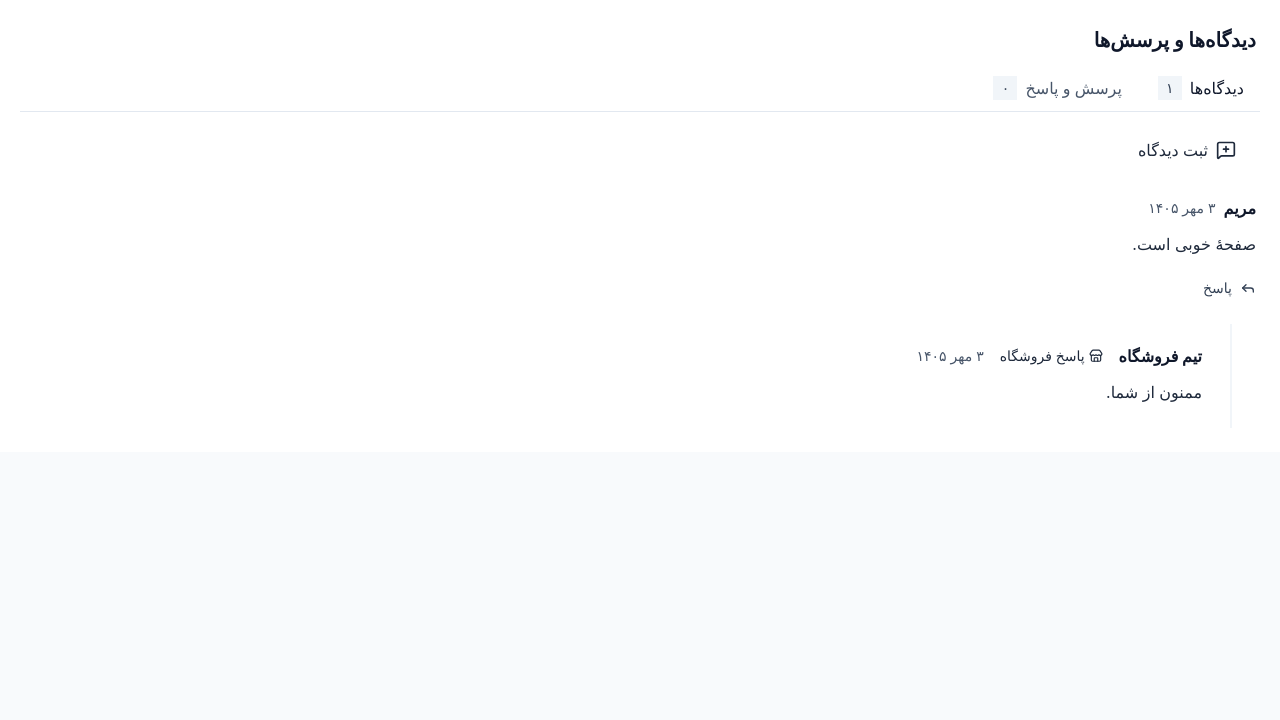
Scenario: PageComments › 403 page_comments_disabled: every form goes, the API’s sentence takes the focus
Later steps or results of the test are not shown.
Click the button "ثبت دیدگاه".
click(1187, 150)  # box 1118,128 -> 1256,172
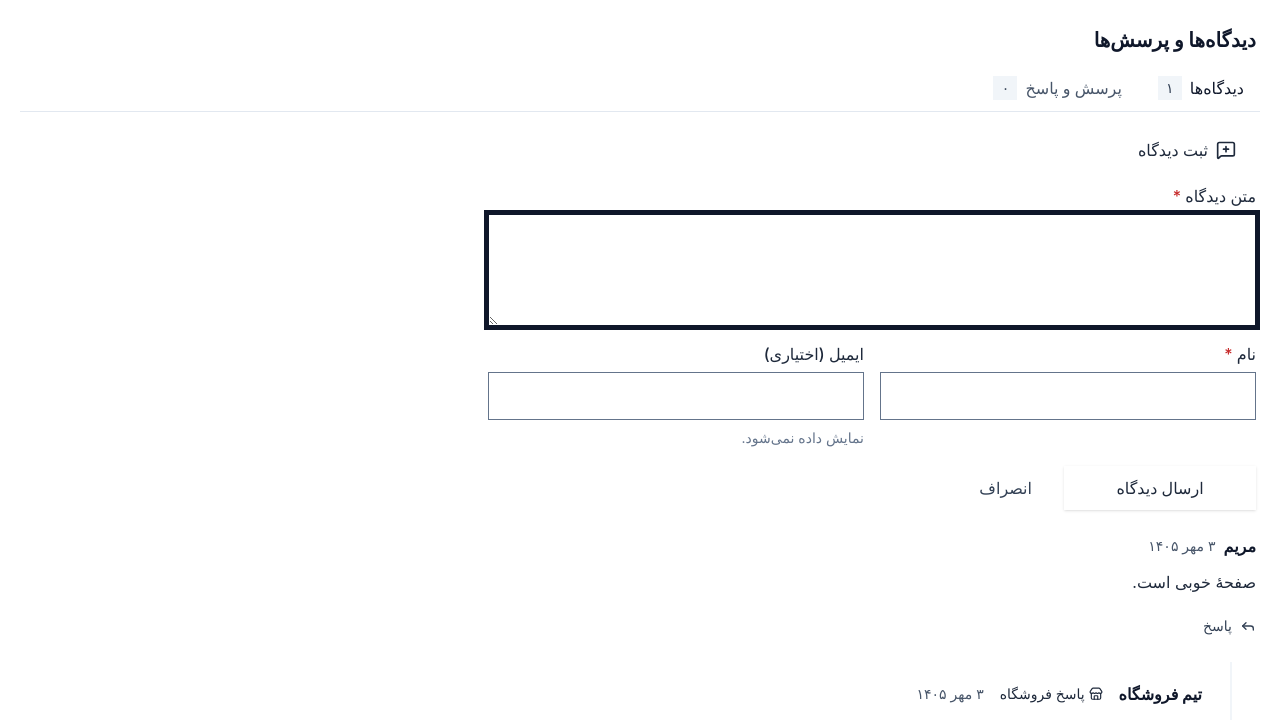
Type "عالی" into the text box labelled "متن دیدگاه *".
click(872, 270); type("عالی")  # box 488,214 -> 1256,326
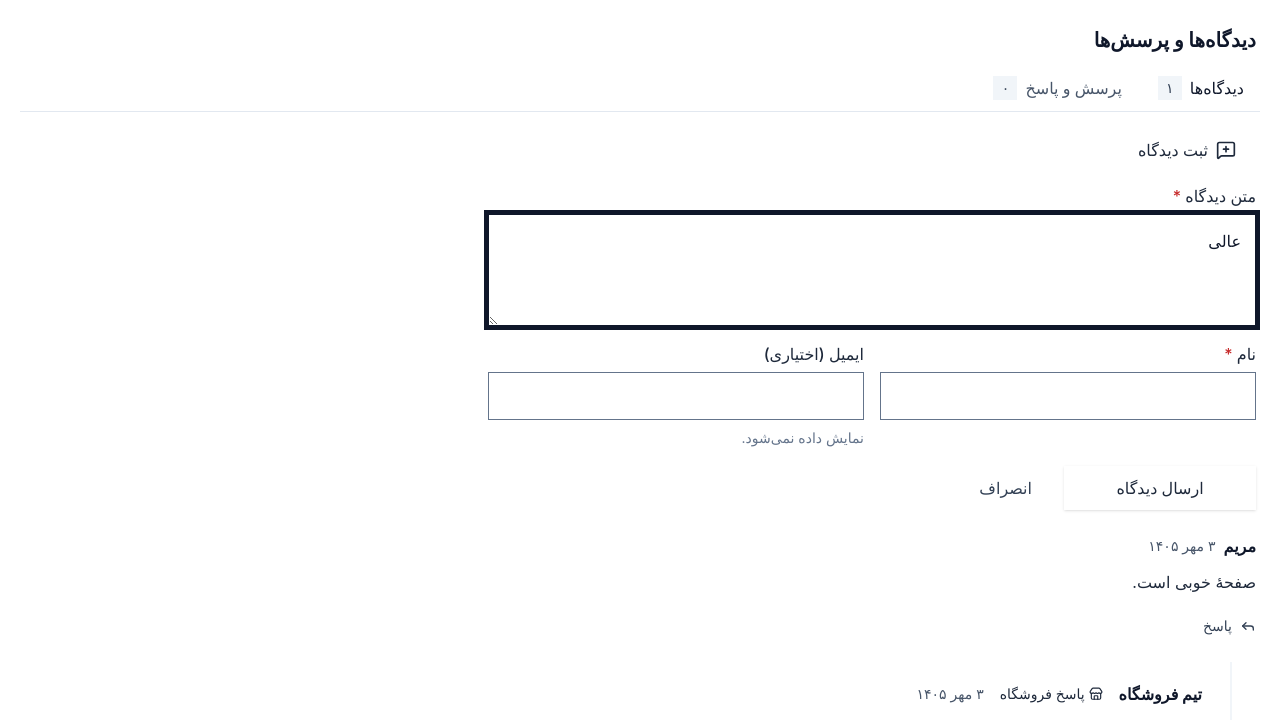
Type "سارا" into the field labelled "نام *".
click(1068, 396); type("سارا")  # box 881,373 -> 1255,419
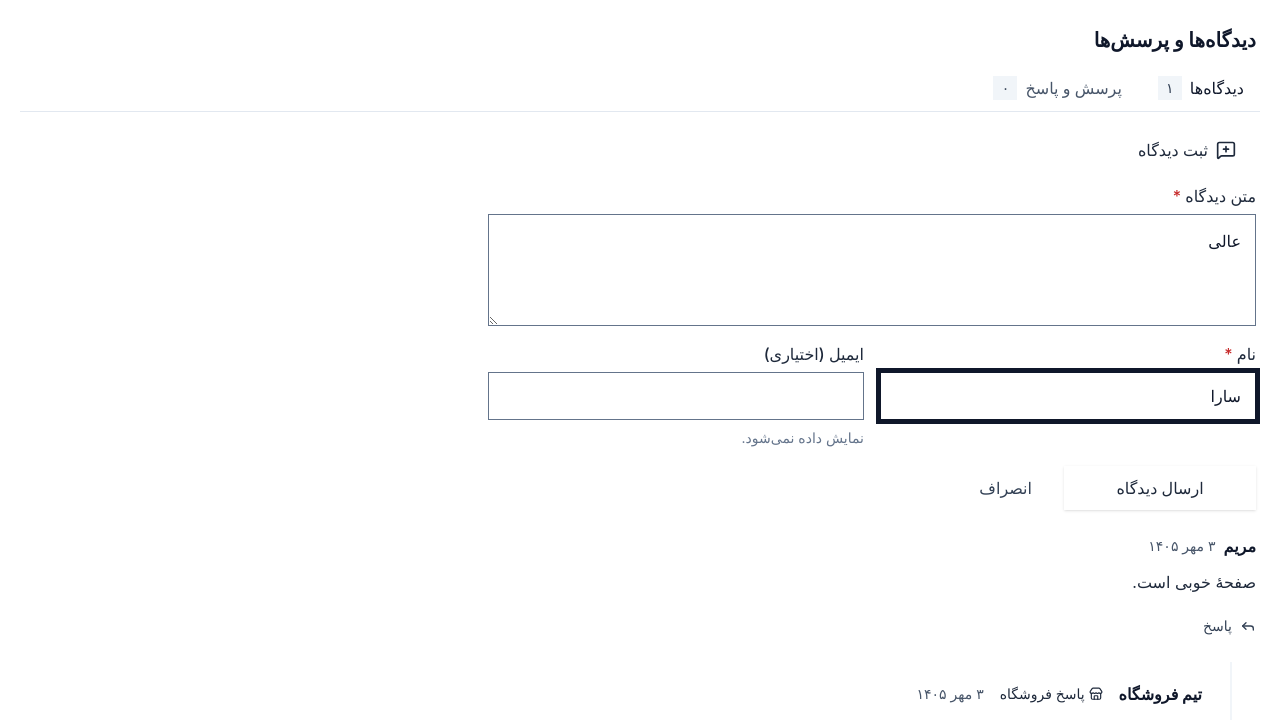
Click the button "ارسال دیدگاه".
click(1160, 488)  # box 1064,466 -> 1256,510
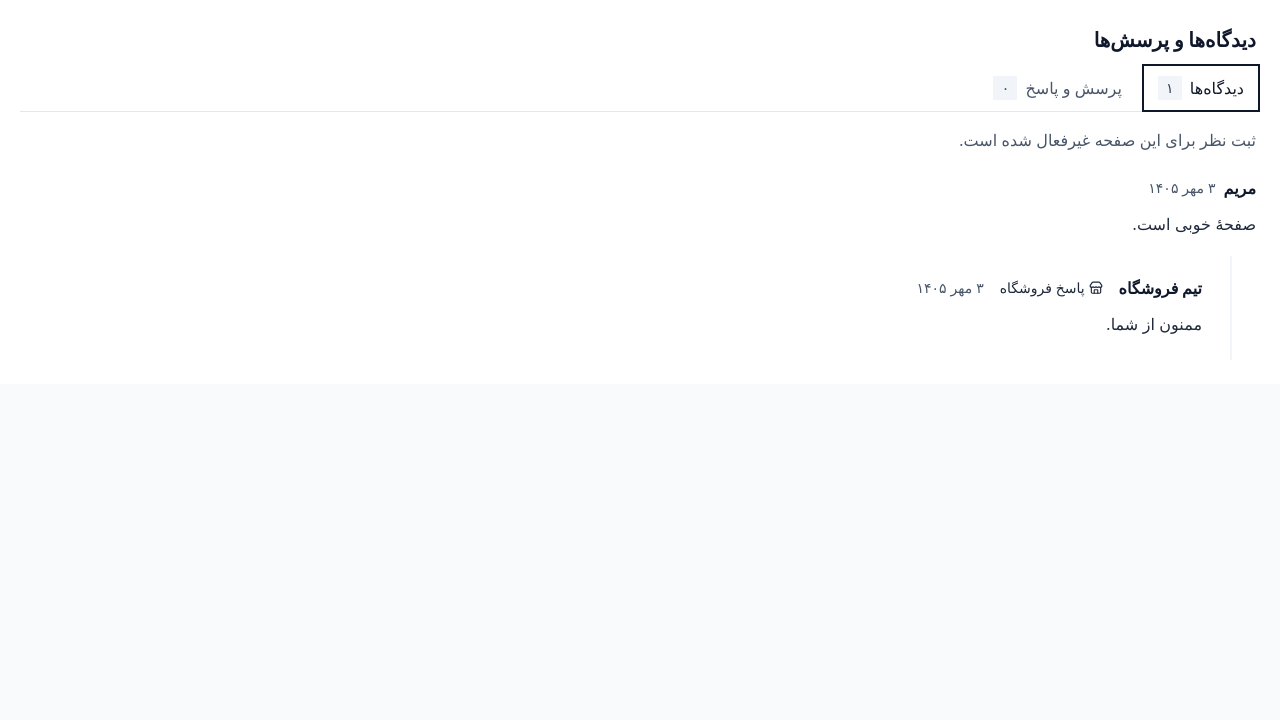
Check: the text "صفحهٔ خوبی است." is shown, box 1132,214 -> 1256,234
Check: the form is gone
Check: the button "ثبت دیدگاه" is gone
Press Arrowleft
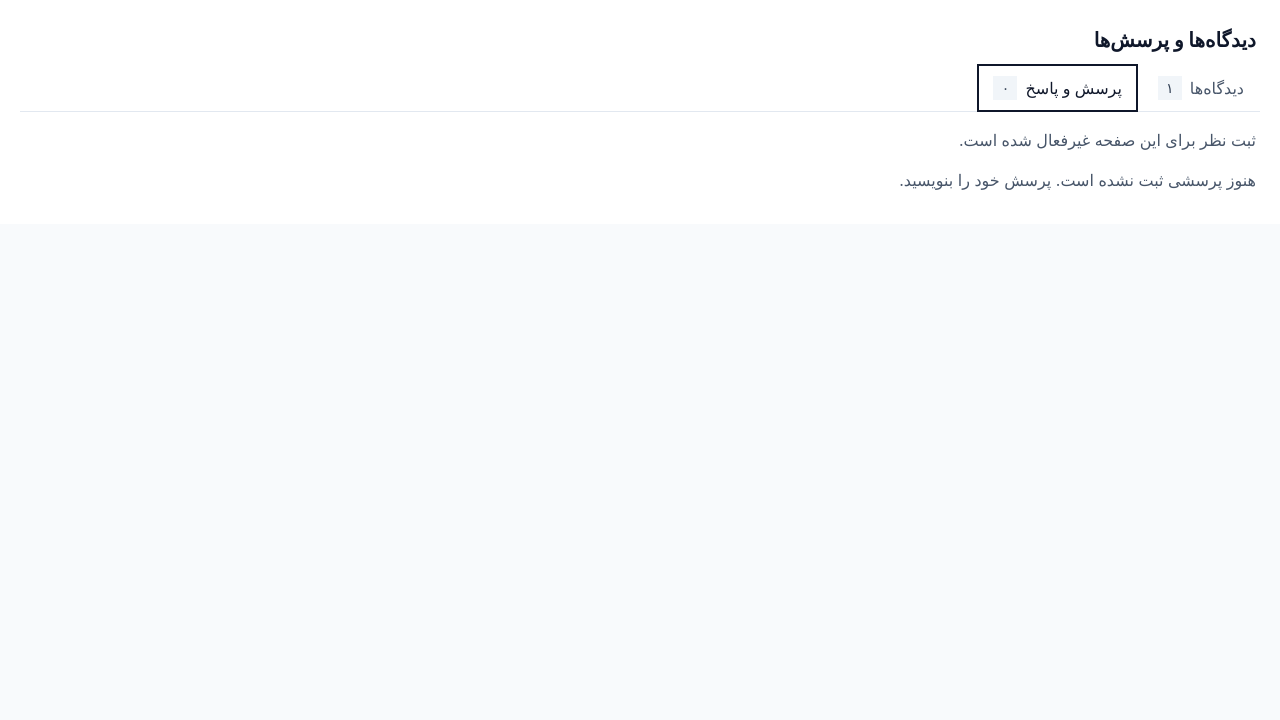
Check: the text "ثبت نظر برای این صفحه غیرفعال شده است." is shown, box 959,130 -> 1256,150
